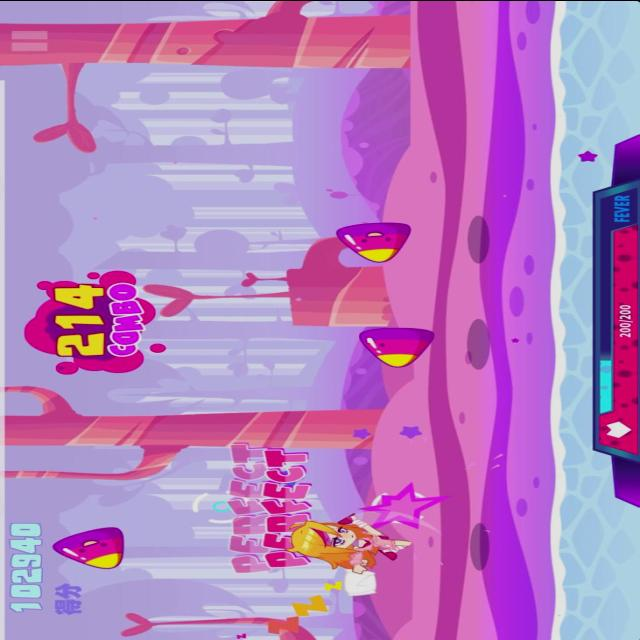jian: (47, 522, 131, 572), (353, 323, 437, 369), (332, 218, 416, 264)
